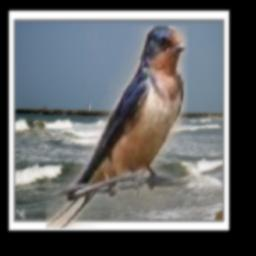Swallow: (45, 26, 187, 228)
